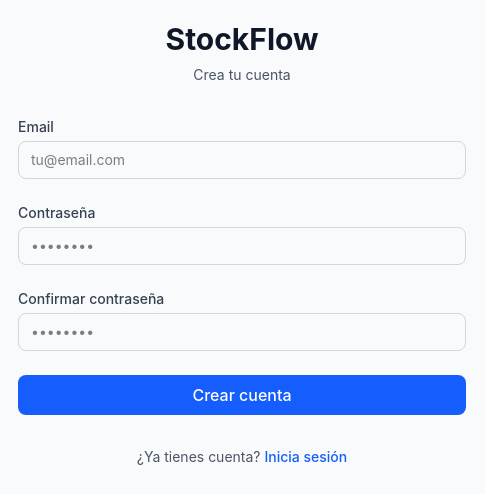
Test: RegisterPage › shows validation errors for mismatched passwords
In the field labelled "Email": (242, 160) [18,141,466,179], type "test@test.com"
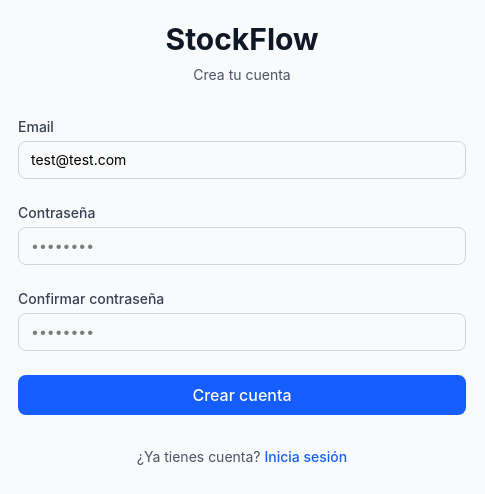
In the password field labelled "Contraseña": (242, 246) [18,227,466,265], type "12345678"
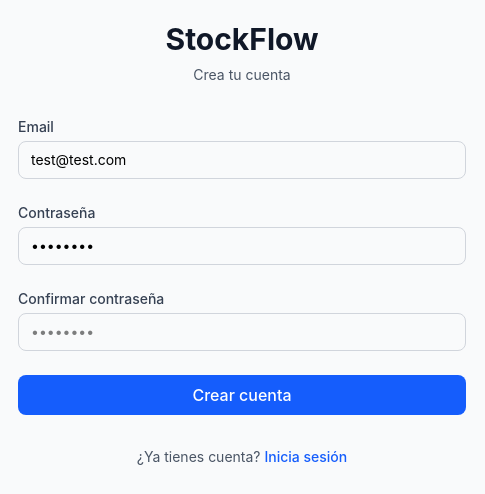
In the password field labelled "Confirmar contraseña": (242, 332) [18,313,466,351], type "87654321"
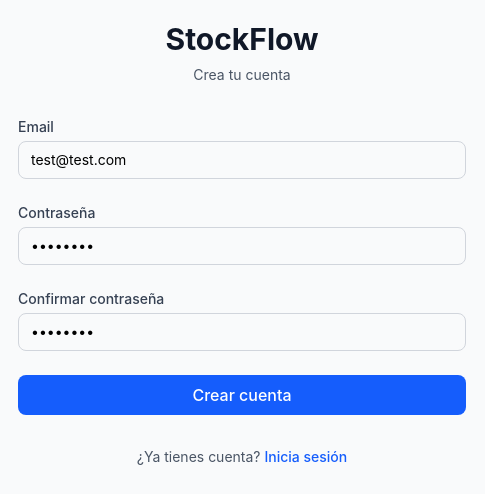
Click the button "Crear cuenta": (242, 395) [18,375,466,415]
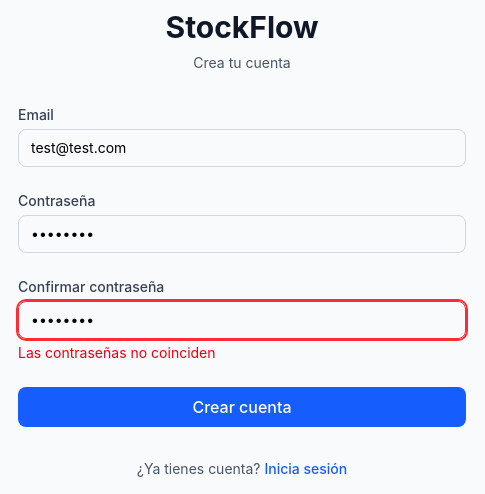
Now the text "Las contraseñas no coinciden" is shown, box [18,344,216,361]
